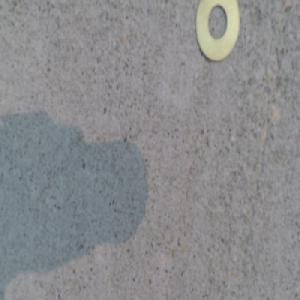Washer: (194, 0, 242, 61)
